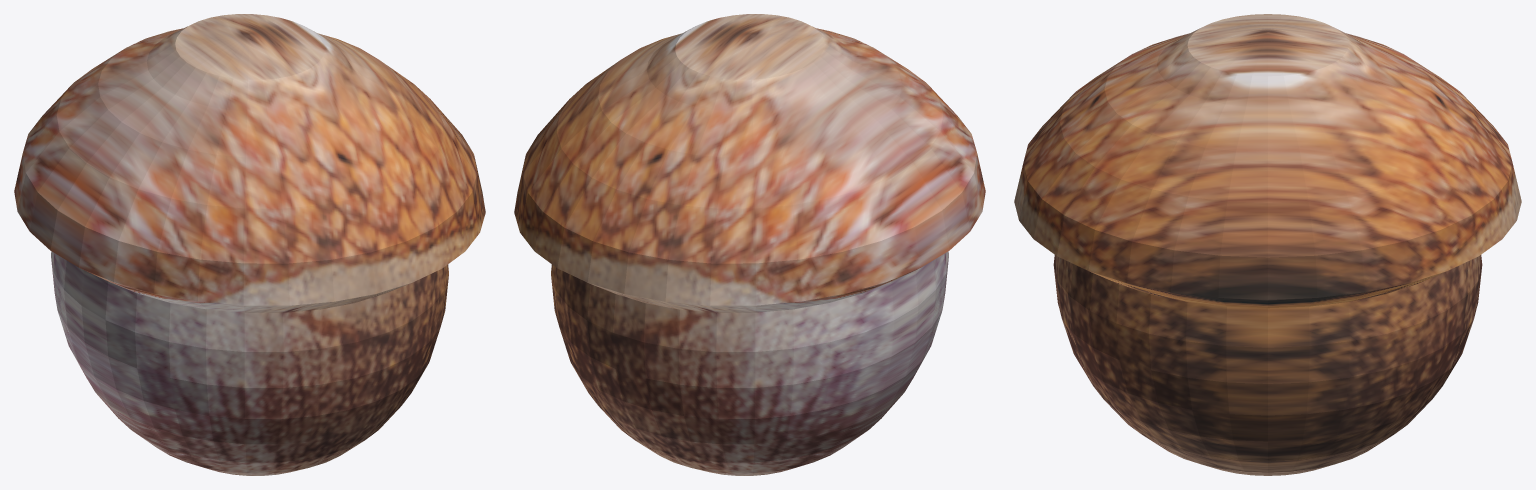
Rendered from Acorn.fbx.
3 views of the same model, side by side, from view 1: azimuth 30°, elevation 25°; view 2: azimuth 150°, elevation 25°; view 3: azimuth 270°, elevation 25° (orthographic).
Visible parts, largest first — view 1: Sphere; view 2: Sphere; view 3: Sphere.
Part boxes in pixels (left/top/right/bottom): Sphere: left=14, top=14, right=485, bottom=475; Sphere: left=514, top=14, right=985, bottom=475; Sphere: left=1014, top=14, right=1521, bottom=475.
Bounding box in the file's own units: 30.47 × 30.86 × 33.27.
1 material, 1 textured.
